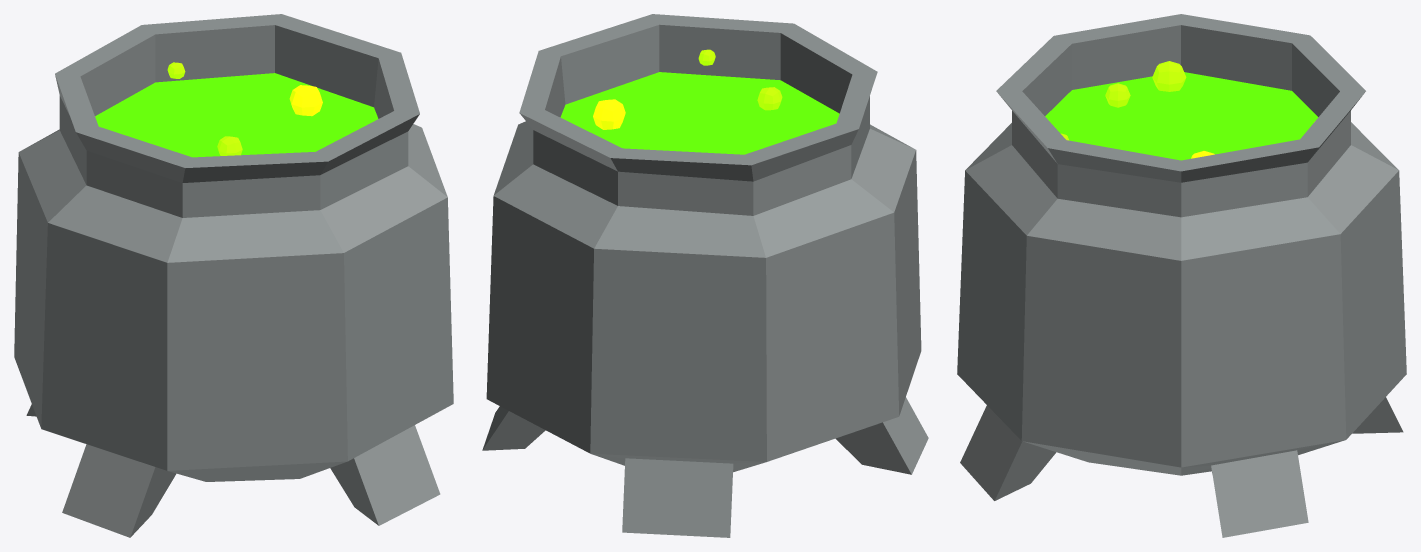
The model's file is cauldron.fbx.
3 renders of one model, left to right at view 1: azimuth 30°, elevation 25°; view 2: azimuth 150°, elevation 25°; view 3: azimuth 270°, elevation 25°, orthographic.
Visible parts, largest first — view 1: Cauldron, Cube.004; view 2: Cauldron, Cube.004; view 3: Cauldron, Cube.005.
Boxes of the visible parts, x1,y1,x2,y2 form: Cauldron: (14, 14, 453, 537); Cube.004: (289, 85, 322, 116); Cauldron: (482, 14, 928, 537); Cube.004: (593, 99, 625, 129); Cauldron: (957, 14, 1406, 537); Cube.005: (1152, 61, 1186, 91).
Bounding box in the file's own units: 241 × 213 × 243.
